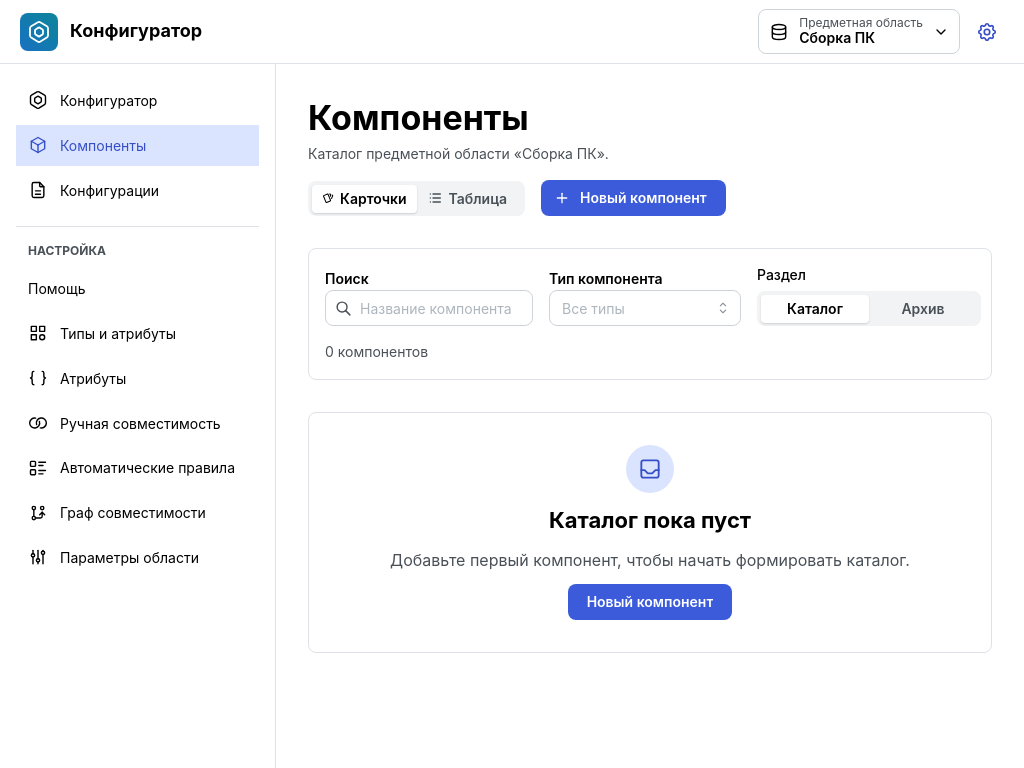
Test case: application shell › switches and persists the interface language
The image size is (1024, 768).
Check: the heading "Каталог пока пуст" is shown, box x1=549 y1=505 x2=751 y2=536
Click the button named "Настройки интерфейса" at (987, 32), box x1=970 y1=14 x2=1004 y2=48
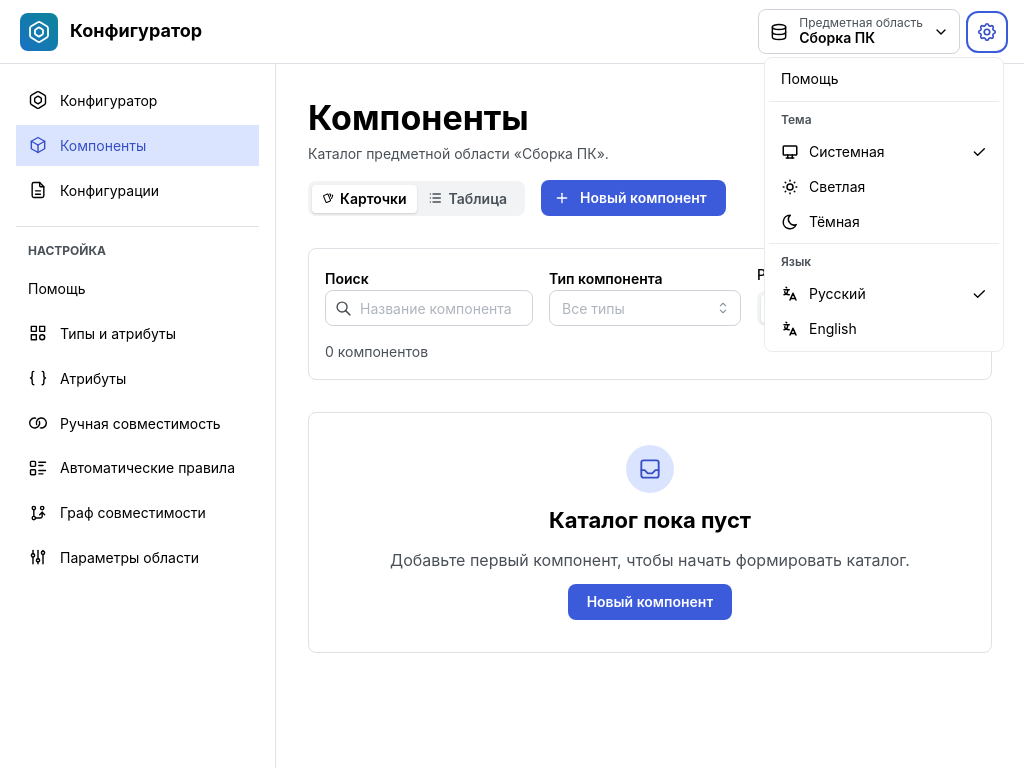
Click the menu item "English" at (884, 329), box x1=769 y1=312 x2=999 y2=347
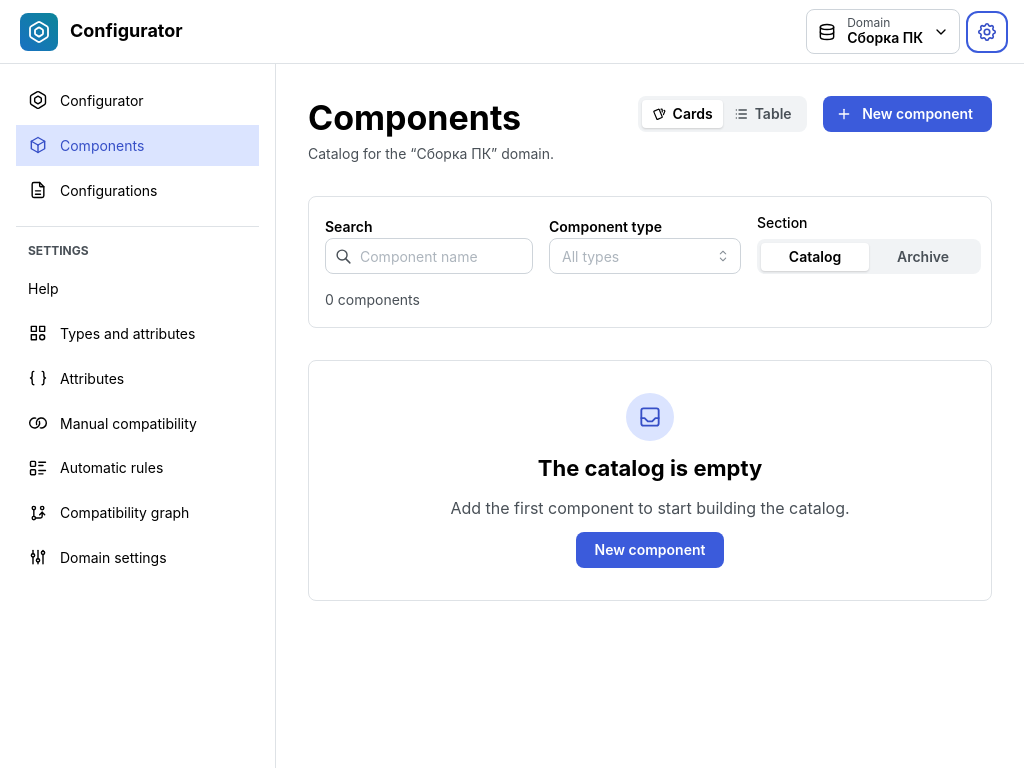
Check: the heading "Components" is shown, box x1=308 y1=96 x2=554 y2=140
Check: the navigation bar named "Main navigation" is shown, box x1=0 y1=64 x2=275 y2=594
